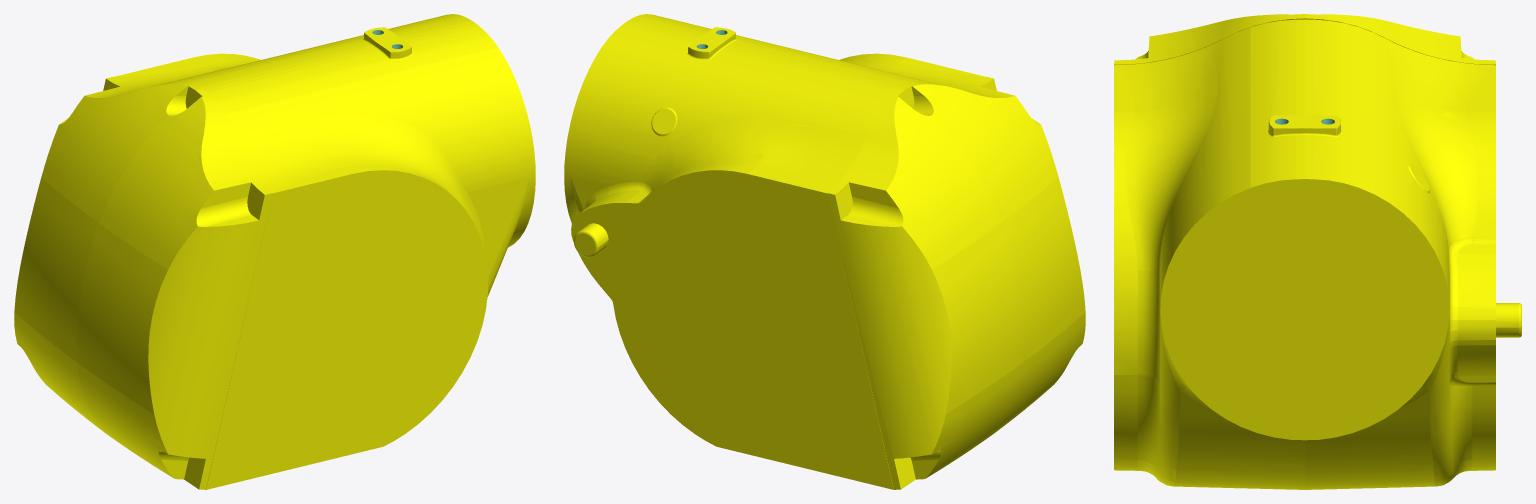
3 renders of one model, left to right at view 1: azimuth 30°, elevation 25°; view 2: azimuth 150°, elevation 25°; view 3: azimuth 270°, elevation 25°, orthographic. The views are drawn at different scales.
Visible parts, largest first — view 1: Mesh_0; view 2: Mesh_0; view 3: Mesh_0.
Boxes of the visible parts, left/top/right/bottom form: Mesh_0: left=14, top=14, right=535, bottom=489; Mesh_0: left=564, top=14, right=1085, bottom=489; Mesh_0: left=1114, top=14, right=1521, bottom=489.
Bounding box in the file's own units: 0.1908 × 0.141 × 0.152.
